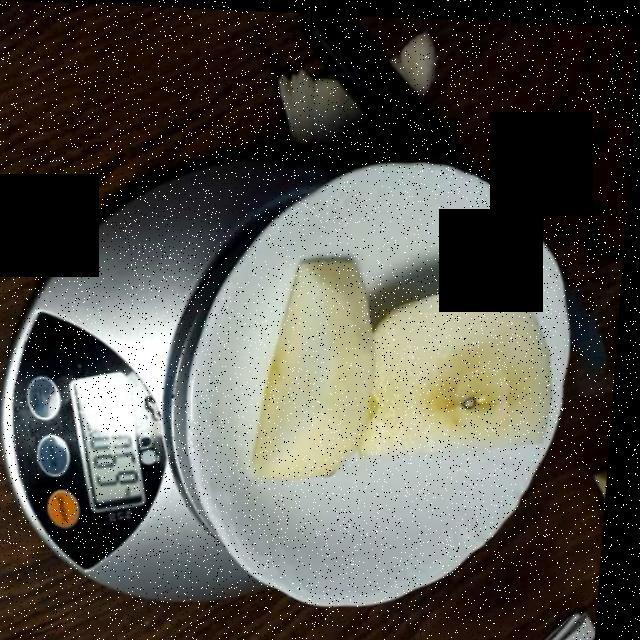apple: (261, 257, 552, 474)
